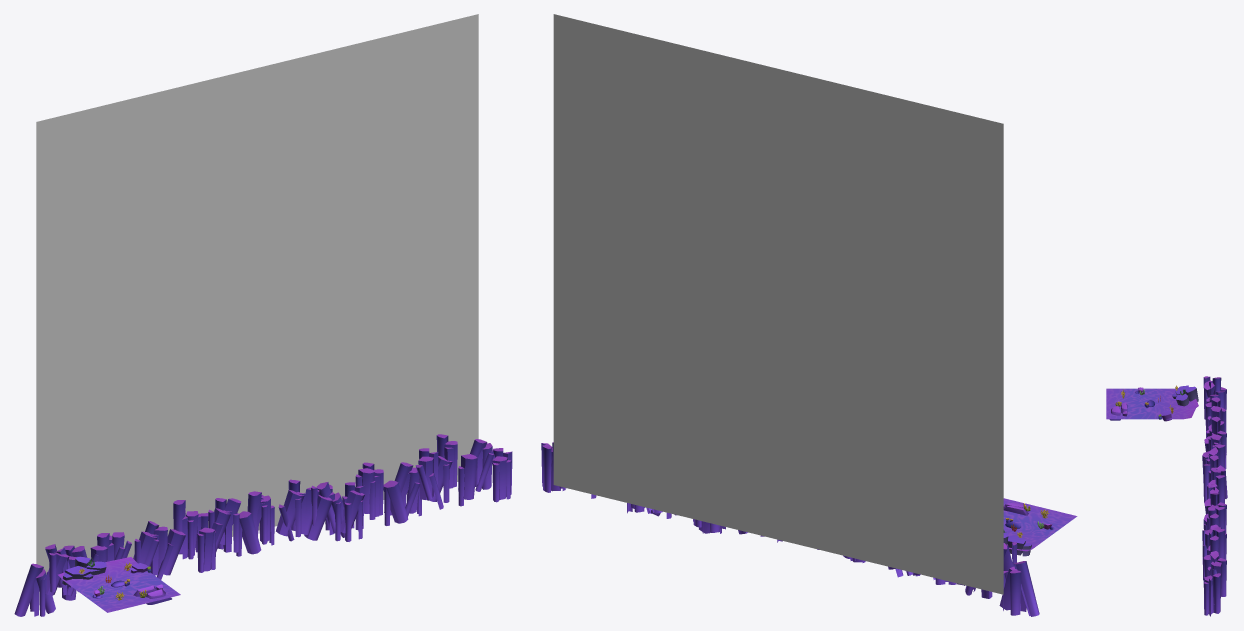
The model's file is Map_Twilight Shrine_Model.fbx.
3 renders of one model, left to right at view 1: azimuth 30°, elevation 25°; view 2: azimuth 150°, elevation 25°; view 3: azimuth 270°, elevation 25°, orthographic. The views are drawn at different scales.
Parts seen in each view (by area): view 1: back ground003, Object200, surface003, object005; view 2: back ground003, Object200, surface003, object005; view 3: Object200, surface003, object005.
Part boxes in pixels (x1,y1,x2,y2): back ground003: (36, 14, 478, 574); Object200: (14, 434, 512, 616); surface003: (58, 557, 180, 612); object005: (62, 557, 171, 604); back ground003: (553, 14, 1003, 594); Object200: (541, 442, 1039, 616); surface003: (1003, 498, 1077, 551); object005: (1003, 502, 1053, 556); Object200: (1202, 376, 1227, 616); surface003: (1106, 388, 1198, 419); object005: (1109, 385, 1198, 421).
Bounding box in the file's own units: 11369 × 10677 × 2872.
